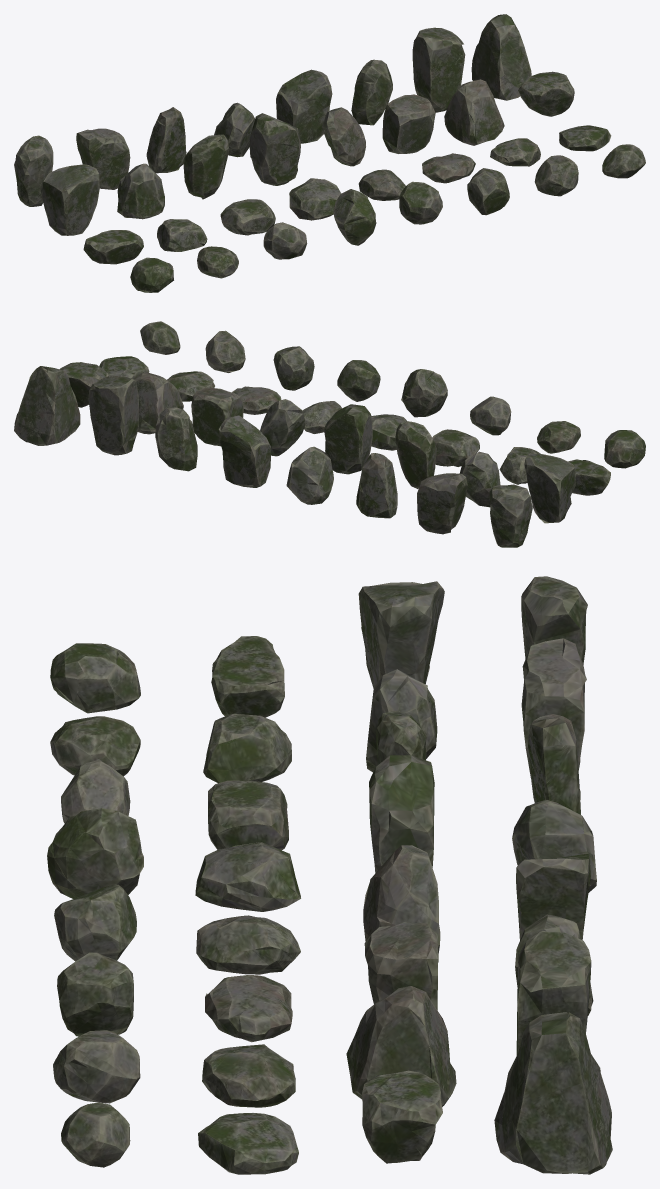
The model's file is rocks-mossy.glb.
The picture shows the model from 3 angles, top to bottom: view 1: azimuth 30°, elevation 25°; view 2: azimuth 150°, elevation 25°; view 3: azimuth 270°, elevation 25°; orthographic projection. The views are drawn at different scales.
Visible parts, largest first — view 1: Mossy_Rock8, Mossy_Rock7, Mossy_Rock9, Mossy_Rock12, Mossy_Rock5, Mossy_Rock15, Mossy_Rock14, Mossy_Rock2, Mossy_Rock11, Mossy_Rock10, Mossy_Rock1, Mossy_Rock3 (+20 smaller); view 2: Mossy_Rock8, Mossy_Rock7, Mossy_Rock5, Mossy_Rock9, Mossy_Rock12, Mossy_Rock2, Mossy_Rock1, Mossy_Rock3, Mossy_Rock6, Mossy_Rock4, Mossy_Rock14, Mossy_Rock11 (+20 smaller); view 3: Mossy_Rock8, Mossy_Rock15, Mossy_Rock9, Mossy_Rock28, Mossy_Rock16, Mossy_Rock12, Mossy_Rock7, Mossy_Rock20, Mossy_Rock30, Mossy_Rock13, Mossy_Rock2, Mossy_Rock18 (+20 smaller).
Boxes of the visible parts, x1,y1,x2,y2 form: Mossy_Rock8: (471,14,531,100); Mossy_Rock7: (412,27,465,112); Mossy_Rock9: (40,164,99,235); Mossy_Rock12: (249,113,300,185); Mossy_Rock5: (276,69,332,143); Mossy_Rock15: (444,79,504,145); Mossy_Rock14: (382,94,435,153); Mossy_Rock2: (76,128,130,189); Mossy_Rock11: (183,134,229,199); Mossy_Rock10: (117,163,164,219); Mossy_Rock1: (14,135,53,206); Mossy_Rock3: (146,107,186,173); Mossy_Rock8: (14,366,80,445); Mossy_Rock7: (88,376,138,455); Mossy_Rock5: (218,415,270,487); Mossy_Rock9: (524,453,575,523); Mossy_Rock12: (324,404,372,474); Mossy_Rock2: (417,473,467,534); Mossy_Rock1: (489,484,532,547); Mossy_Rock3: (356,453,397,518); Mossy_Rock6: (155,406,197,471); Mossy_Rock4: (286,446,333,504); Mossy_Rock14: (191,387,243,446); Mossy_Rock11: (395,421,436,488); Mossy_Rock8: (494,1012,612,1174); Mossy_Rock15: (346,986,456,1106); Mossy_Rock9: (358,581,444,688); Mossy_Rock28: (47,808,143,898); Mossy_Rock16: (362,1070,442,1163); Mossy_Rock12: (369,755,434,872); Mossy_Rock7: (516,931,591,1055); Mossy_Rock20: (195,842,300,911); Mossy_Rock30: (57,952,133,1036); Mossy_Rock13: (363,845,440,962); Mossy_Rock2: (521,638,586,777); Mossy_Rock18: (203,713,291,783).
Bounding box in the file's own units: 7.74 × 1.1 × 3.7.
1 material, 1 textured.
